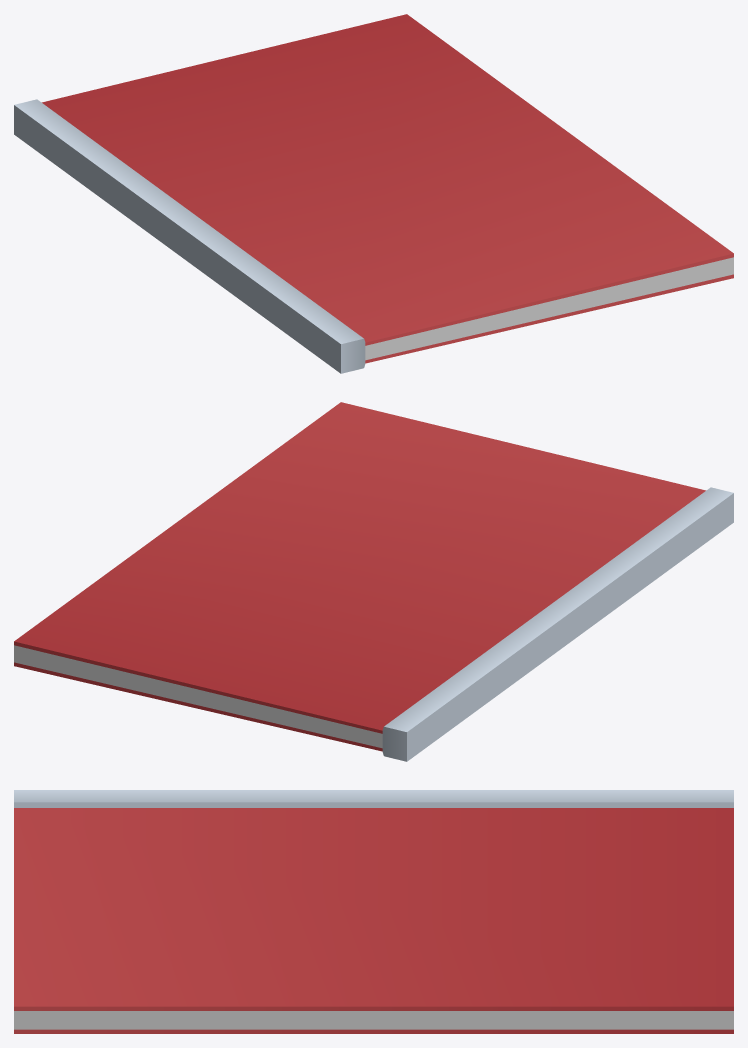
Rendered from SpecialNotebook.fbx.
3 renders of one model, top to bottom at view 1: azimuth 30°, elevation 25°; view 2: azimuth 150°, elevation 25°; view 3: azimuth 270°, elevation 25°, orthographic. The views are drawn at different scales.
Parts seen in each view (by area): view 1: Plane.003; view 2: Plane.003; view 3: Plane.003.
Boxes of the visible parts, box(x1,y1,x2,y2) form: Plane.003: box(14, 14, 733, 373); Plane.003: box(14, 402, 733, 761); Plane.003: box(14, 790, 733, 1033).
Size of the model in its own units: 41.63 by 3.01 by 60.
